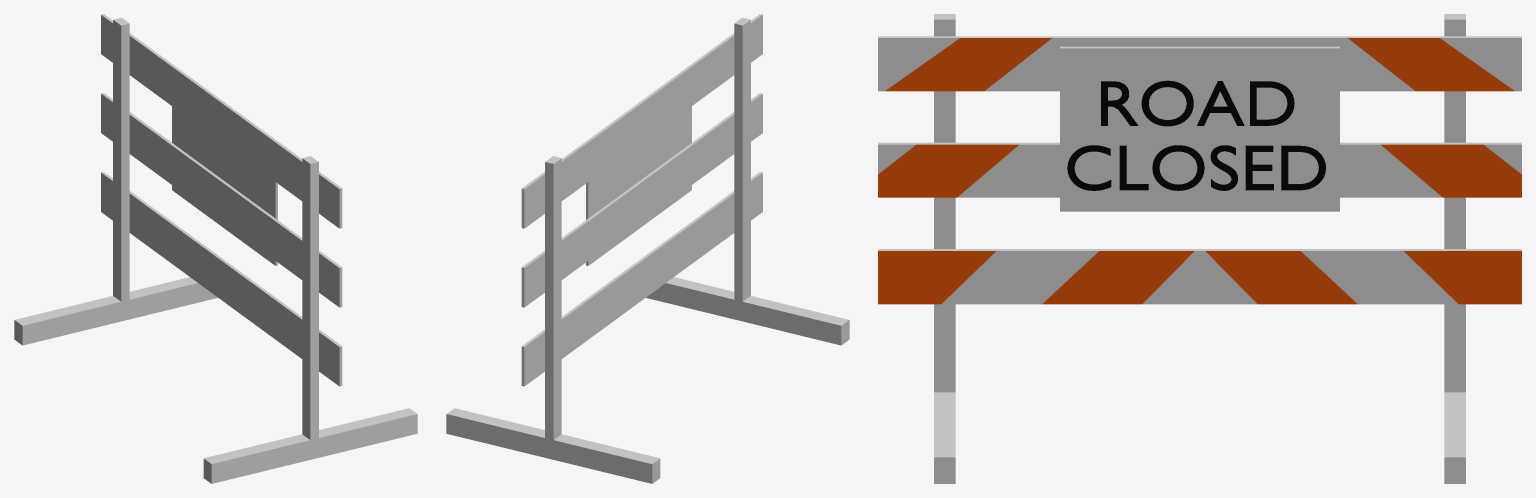
File: RoadClosed.fbx
3 renders of one model, left to right at view 1: azimuth 30°, elevation 25°; view 2: azimuth 150°, elevation 25°; view 3: azimuth 270°, elevation 25°, orthographic. The views are drawn at different scales.
Parts seen in each view (by area): view 1: Road Closed; view 2: Road Closed; view 3: Road Closed.
Boxes of the visible parts, x1,y1,x2,y2 form: Road Closed: (14,14,417,483); Road Closed: (446,14,849,483); Road Closed: (878,14,1521,483).
Bounding box in the file's own units: 1.36 × 1.87 × 2.73.
